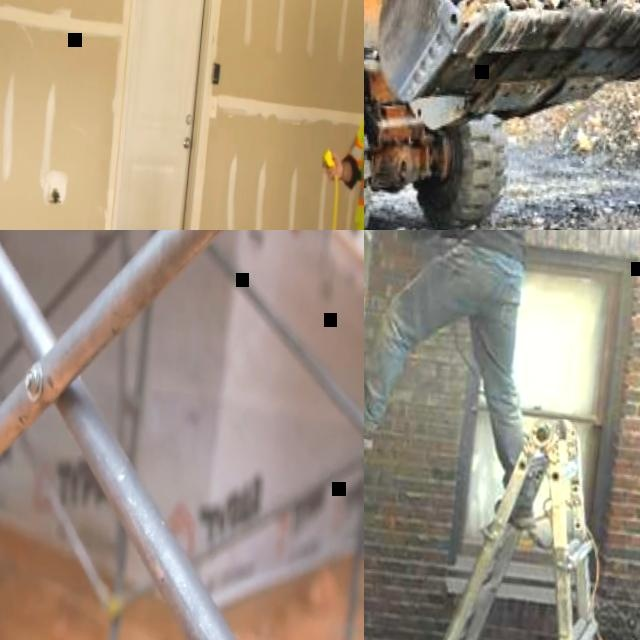NO-Safety Vest: (444, 230, 540, 266)
Person: (364, 230, 575, 529), (292, 0, 364, 230)
Safety Vest: (339, 76, 364, 230)
machinery: (364, 0, 640, 230)
